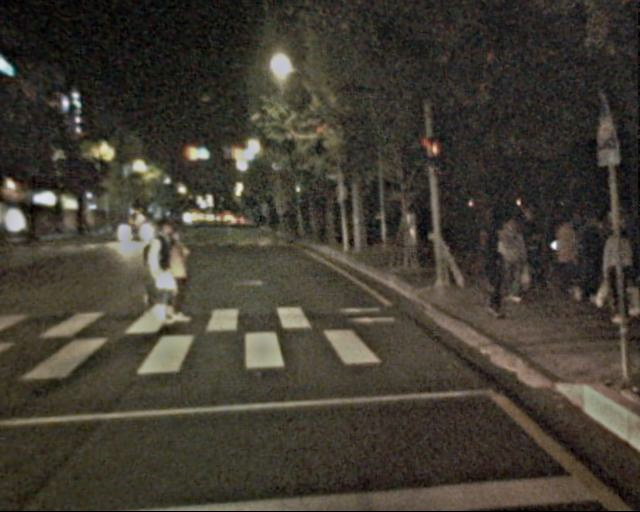person: (479, 206, 541, 327), (136, 217, 180, 324), (598, 224, 640, 328), (155, 230, 194, 326), (567, 210, 604, 301), (549, 216, 584, 301)
